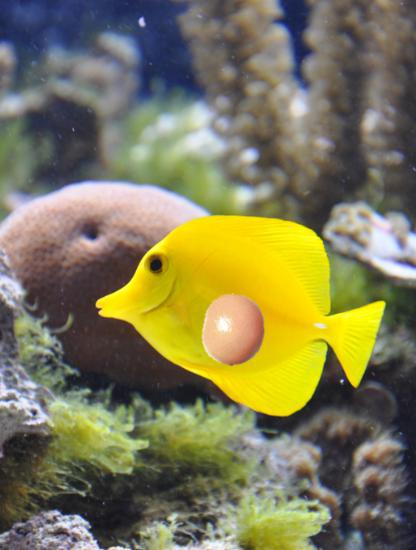Grapefruit: (197, 293, 271, 367)
